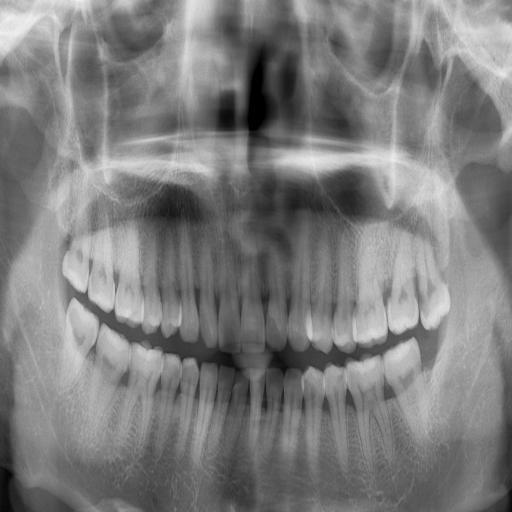Wisdom teeth: (61, 299, 98, 385), (417, 248, 449, 328), (64, 240, 89, 292)
